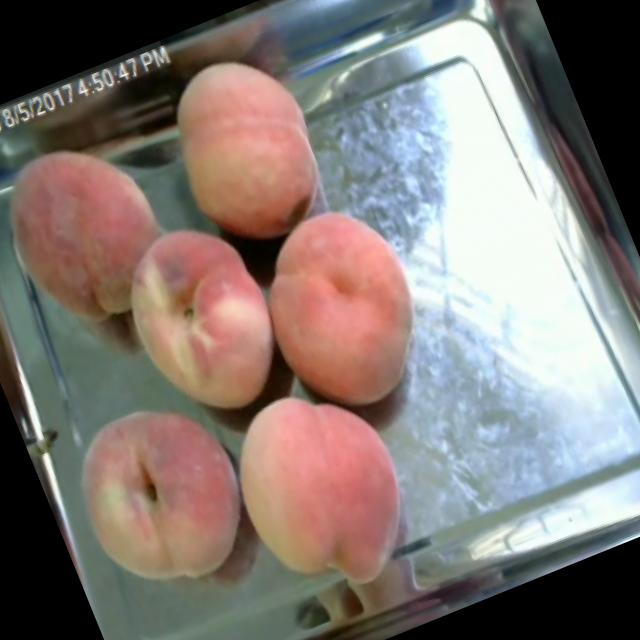Fruit: (198, 354, 444, 626), (39, 368, 283, 624), (234, 176, 460, 438), (132, 22, 358, 270), (88, 192, 304, 446), (0, 105, 205, 356)
